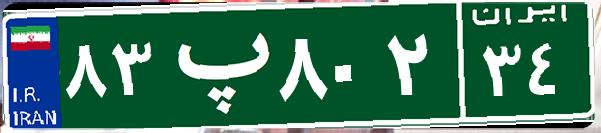0: (330, 28, 385, 110)
2: (385, 28, 445, 110)
3: (475, 38, 525, 113), (110, 28, 158, 105)
4: (525, 38, 570, 115)
8: (273, 28, 330, 110), (57, 26, 110, 107)
پ: (158, 15, 273, 115)
